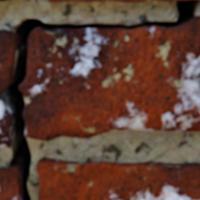brick: (36, 158, 199, 199), (0, 166, 20, 199), (48, 0, 187, 3), (0, 0, 12, 1)
broken_brick: (19, 17, 199, 141), (0, 32, 16, 148)
crack: (2, 0, 198, 199)
